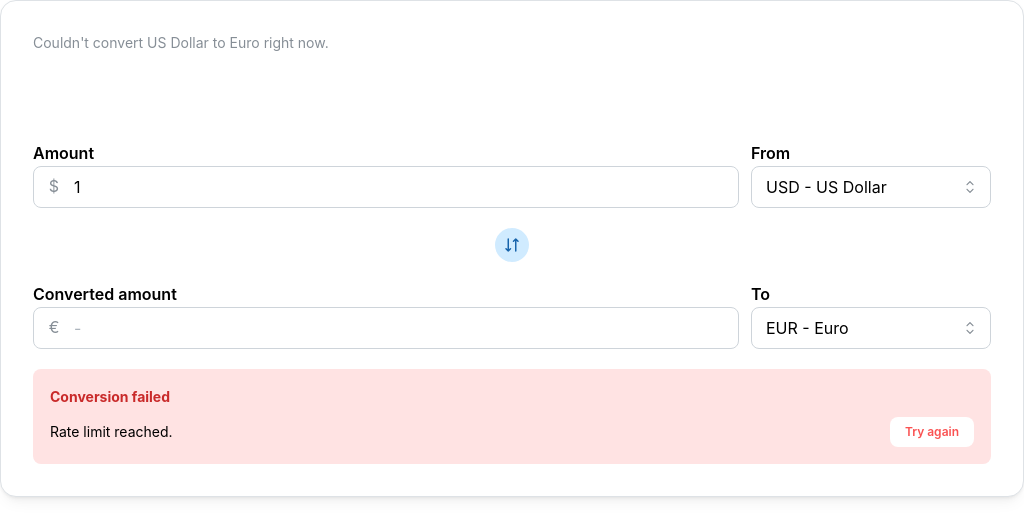
it: CurrencyConverter › shows conversion errors with a retry action
The image size is (1024, 517).
Expected: the message shows "Rate limit reached.", [50, 423, 172, 440]
Click the button "Try again" at (932, 432), box [890, 417, 974, 447]
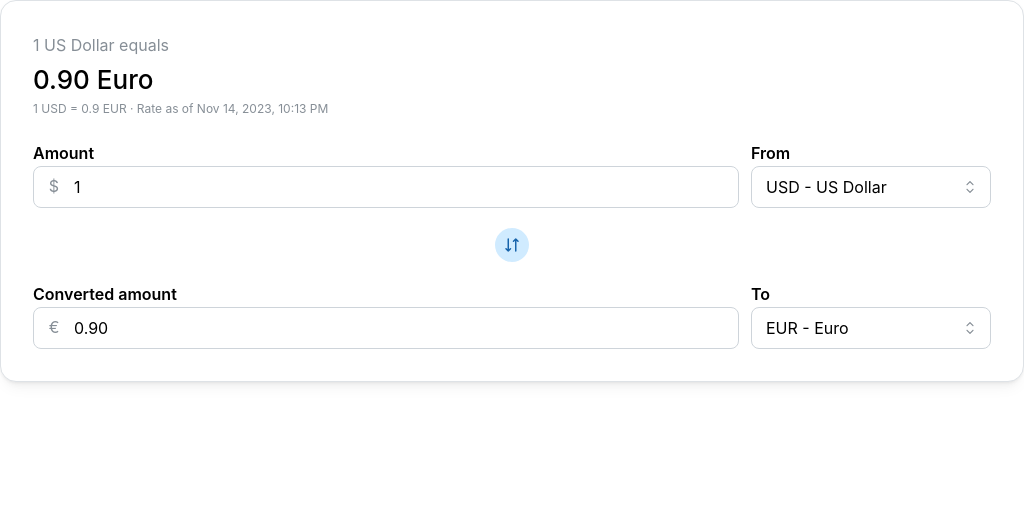
Expected: the heading with test id "conversion-result" reads "0.90 Euro", [33, 64, 153, 95]
